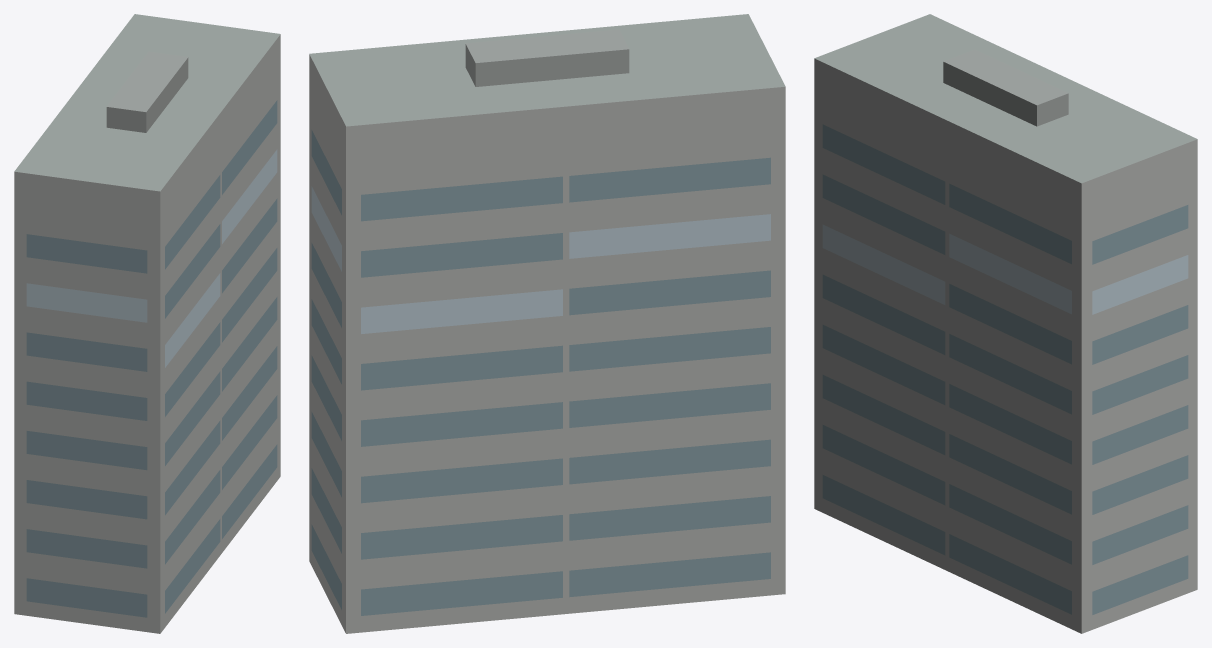
Rendered from apt-a15785605.glb.
3 renders of one model, left to right at view 1: azimuth 30°, elevation 25°; view 2: azimuth 150°, elevation 25°; view 3: azimuth 270°, elevation 25°, orthographic. The views are drawn at different scales.
Parts seen in each view (by area): view 1: apt-a15785605; view 2: apt-a15785605; view 3: apt-a15785605.
Boxes of the visible parts, x1,y1,x2,y2 form: apt-a15785605: (14,14,280,633); apt-a15785605: (309,14,785,633); apt-a15785605: (814,14,1197,633).
Size of the model in its own units: 24.65 by 32 by 23.58.
